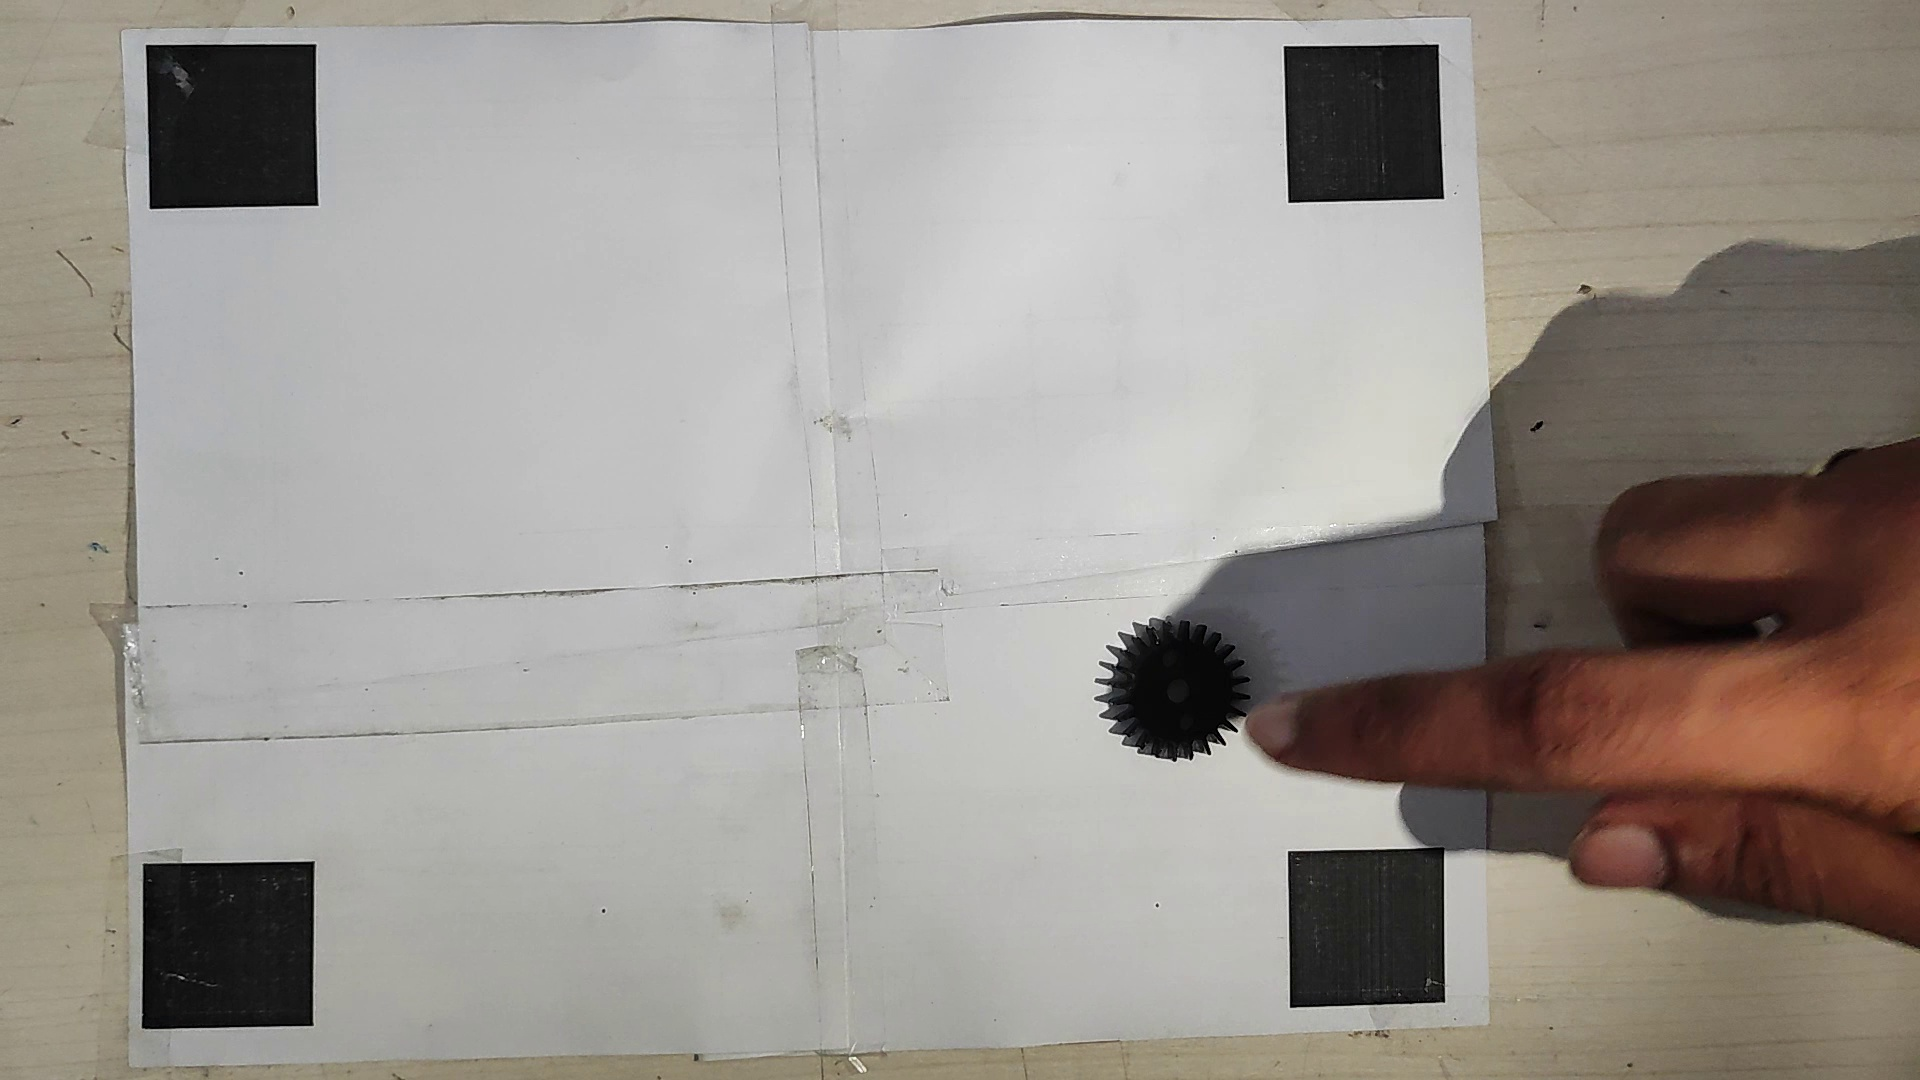Gear: (1092, 608, 1259, 760)
